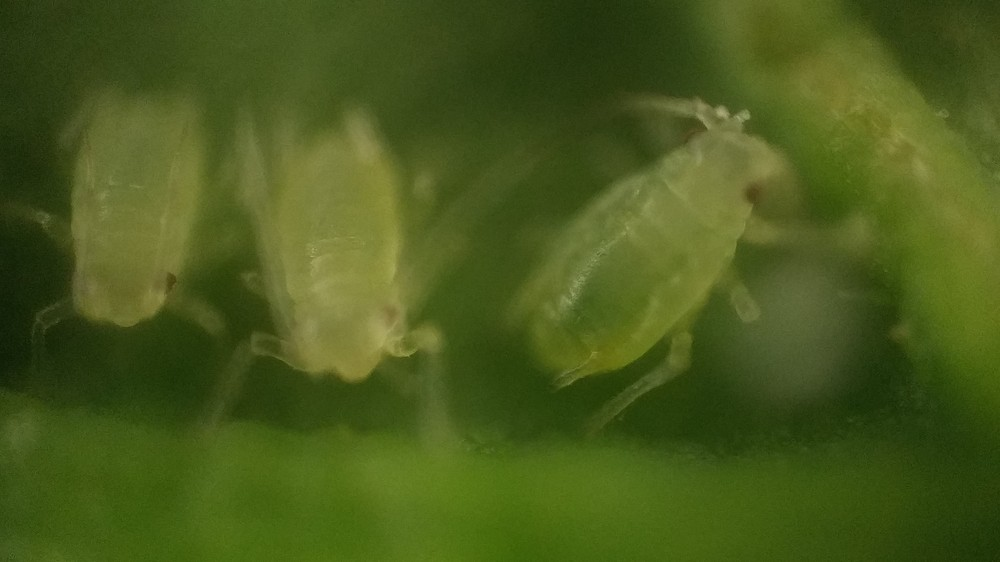Pulgon: (490, 74, 895, 463), (211, 105, 485, 441), (13, 80, 244, 392)
